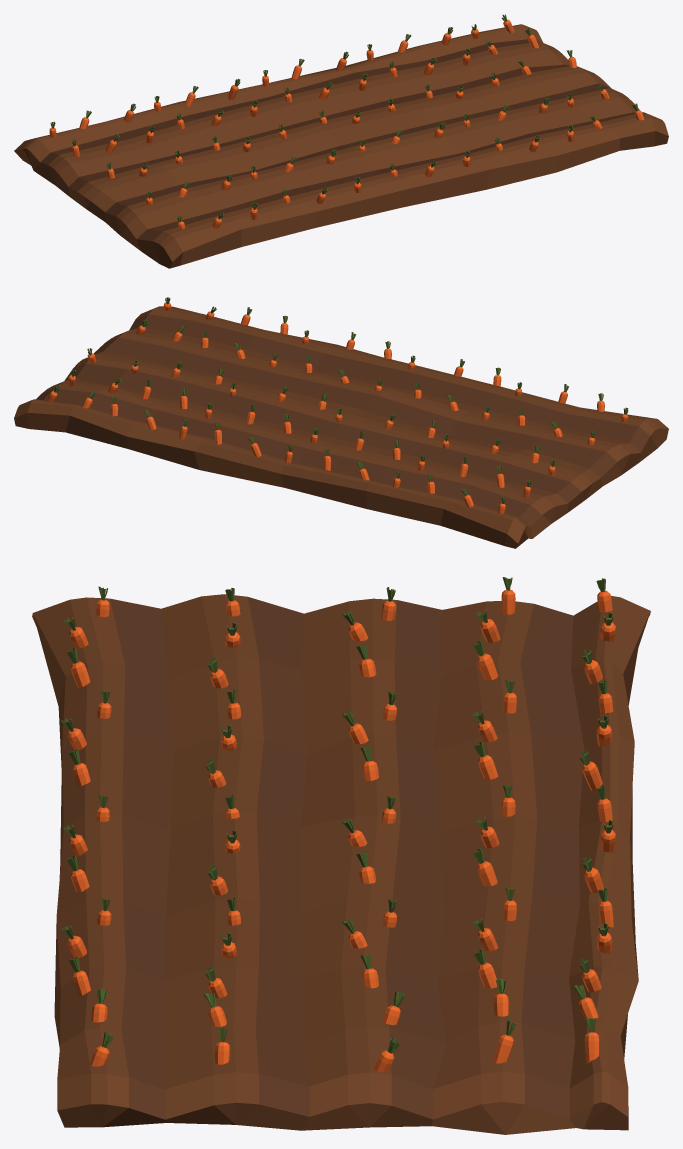
File: CarrotHarvest_1.fbx
The picture shows the model from 3 angles, top to bottom: view 1: azimuth 30°, elevation 25°; view 2: azimuth 150°, elevation 25°; view 3: azimuth 270°, elevation 25°; orthographic projection. The views are drawn at different scales.
Parts seen in each view (by area): view 1: CarrotHarvest_1; view 2: CarrotHarvest_1; view 3: CarrotHarvest_1.
Boxes of the visible parts, x1=… form: CarrotHarvest_1: x1=14, y1=14, x2=668, y2=268; CarrotHarvest_1: x1=14, y1=297, x2=668, y2=548; CarrotHarvest_1: x1=32, y1=577, x2=650, y2=1134.
Bounding box in the file's own units: 622 × 50.14 × 325.
